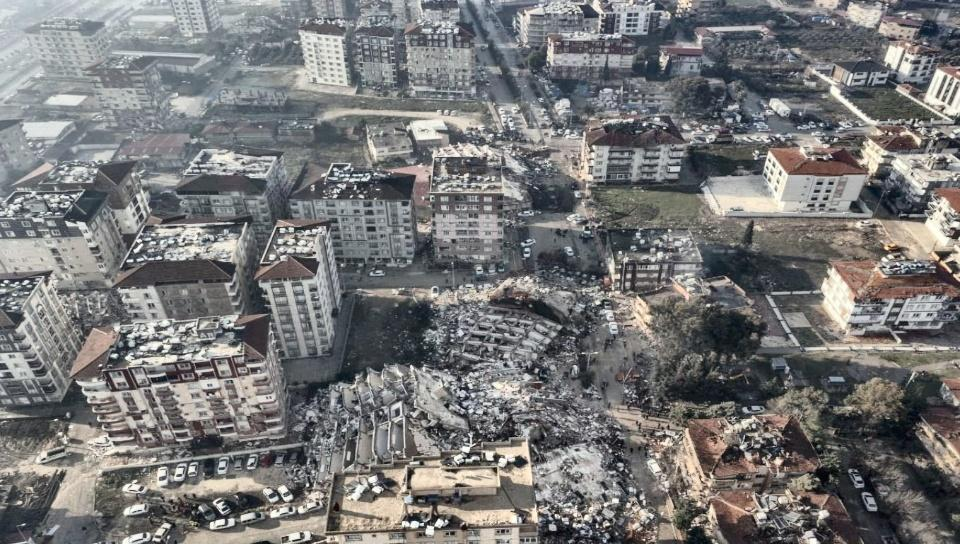kapali: (528, 373, 676, 543), (514, 230, 629, 373), (506, 127, 588, 228)
